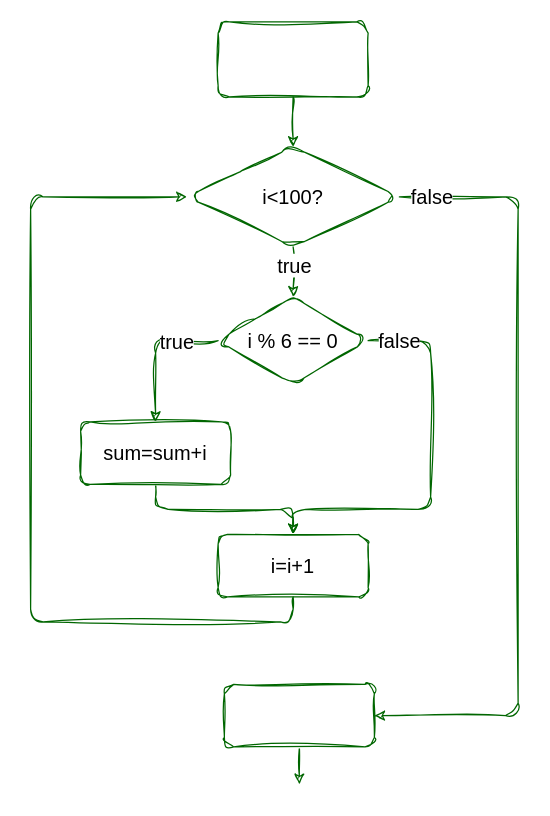
The diagram is 550 pixels wide and 816 high, and some of its shapes have lost their labels. Here are the shapes that lost their labels. From the top down, the box of each, then its label:
(217, 21, 368, 97): sum = 0 i = 1
(223, 683, 374, 747): 打印sum
